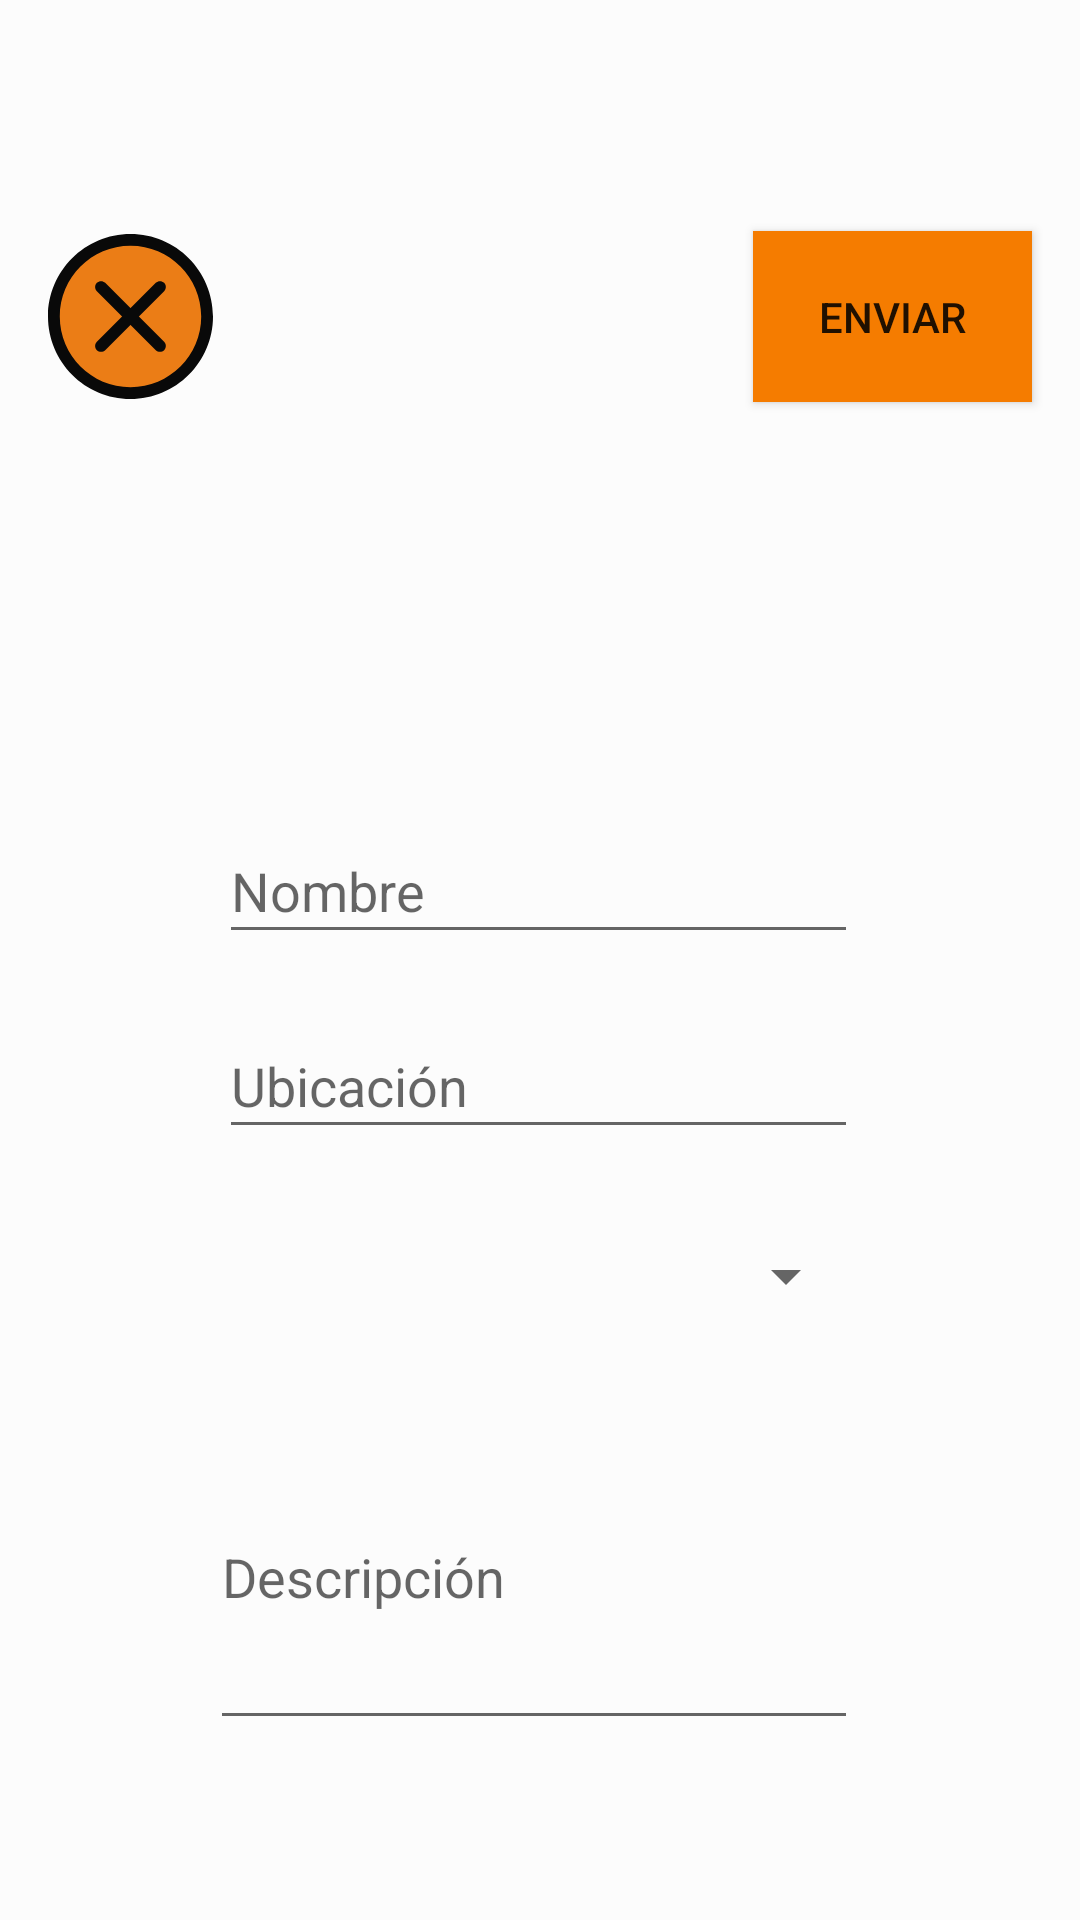

Named icons in this screenshot (1080*1920) and their bounding boxes, (x1, y1, x2, y2):
mark: (48, 234, 213, 399)
